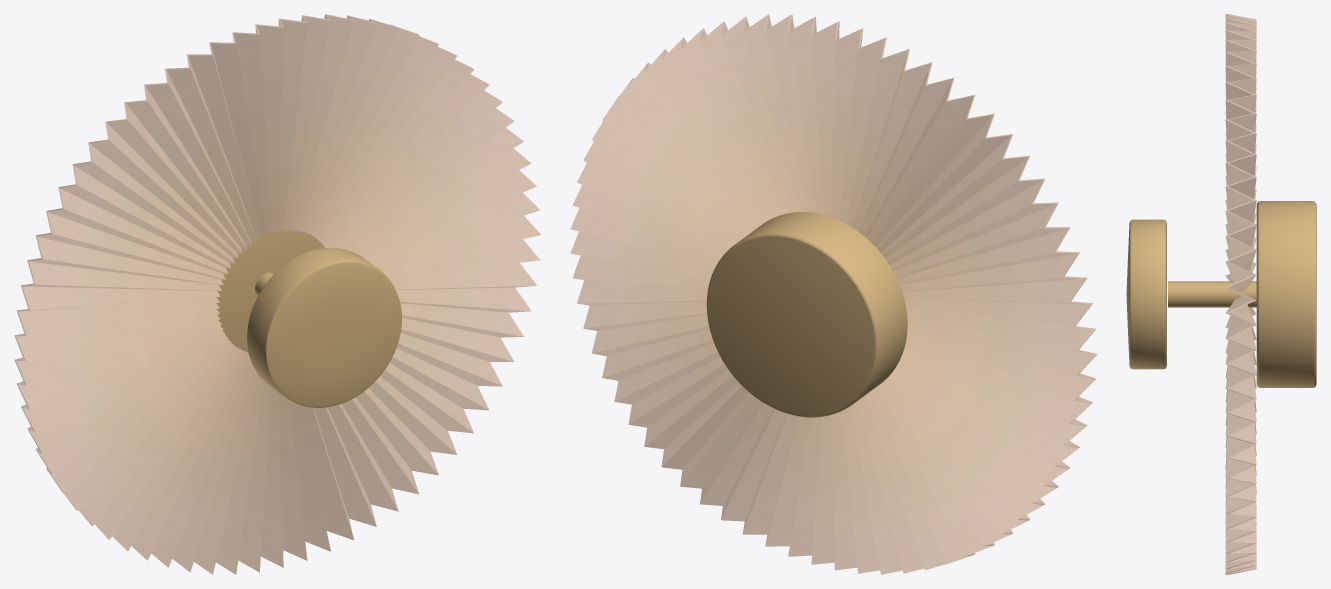
3 views of the same model, side by side, from view 1: azimuth 30°, elevation 25°; view 2: azimuth 150°, elevation 25°; view 3: azimuth 270°, elevation 25° (orthographic). The views are drawn at different scales.
Parts seen in each view (by area): view 1: fan, metal; view 2: fan, metal; view 3: metal, fan.
Part boxes in pixels (x1,y1,x2,y2): fan: [14, 14, 540, 574]; metal: [216, 229, 401, 407]; fan: [570, 14, 1097, 574]; metal: [706, 212, 907, 417]; metal: [1126, 201, 1316, 387]; fan: [1225, 14, 1256, 574].
Size of the model in its own units: 0.3 by 0.3 by 0.1016.
3 materials, 1 textured.
